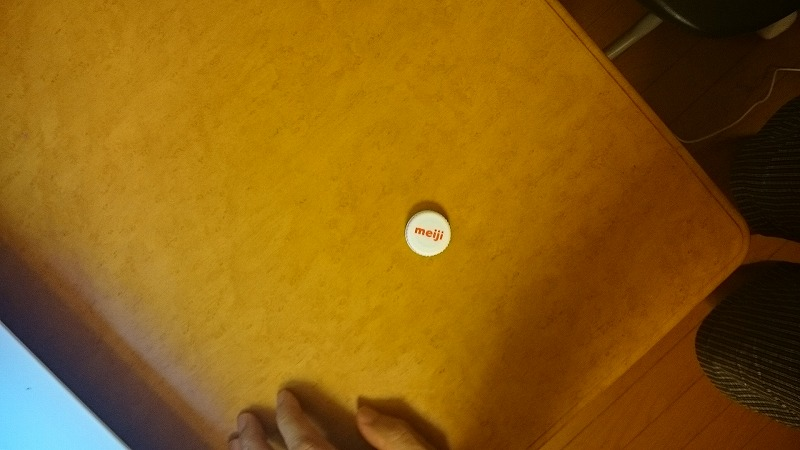B: (402, 206, 461, 264)
